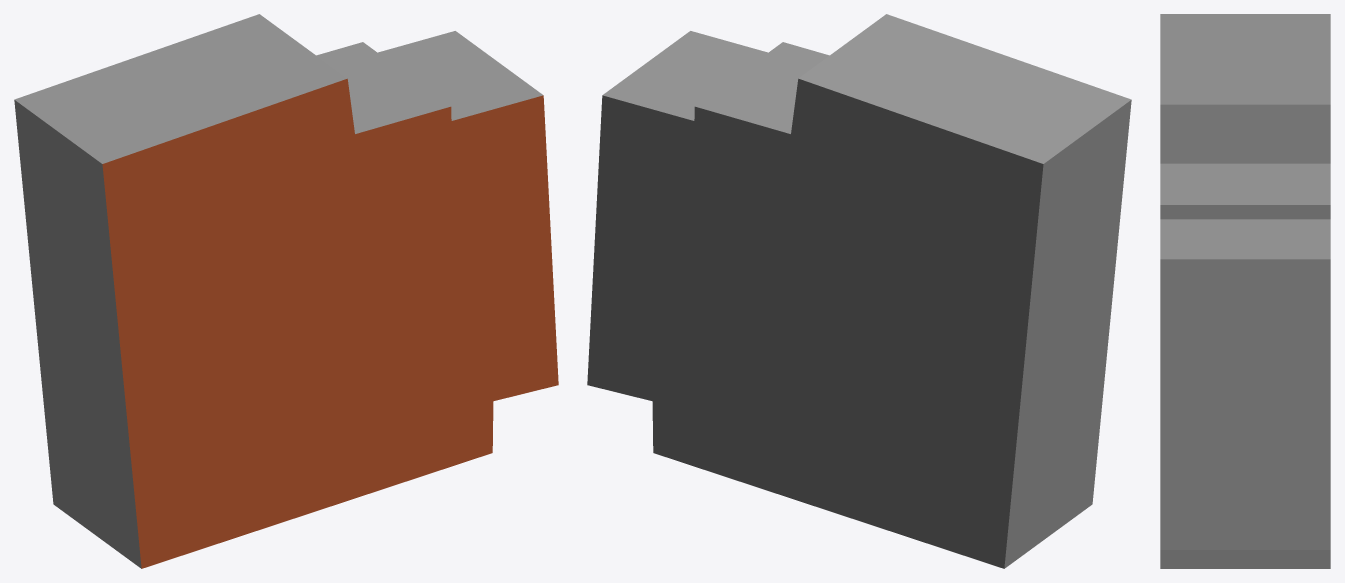
The model's file is construction_5915_assumed_A_Casa_h6m.obj.
3 renders of one model, left to right at view 1: azimuth 30°, elevation 25°; view 2: azimuth 150°, elevation 25°; view 3: azimuth 270°, elevation 25°, orthographic. The views are drawn at different scales.
Parts seen in each view (by area): view 1: construction_5915_assumed_A_Casa; view 2: construction_5915_assumed_A_Casa; view 3: construction_5915_assumed_A_Casa.
Part boxes in pixels (<box>): construction_5915_assumed_A_Casa: <box>14,14,558,568</box>; construction_5915_assumed_A_Casa: <box>587,14,1131,568</box>; construction_5915_assumed_A_Casa: <box>1160,14,1330,568</box>.
Bounding box in the file's own units: 17.92 × 16.52 × 6.
